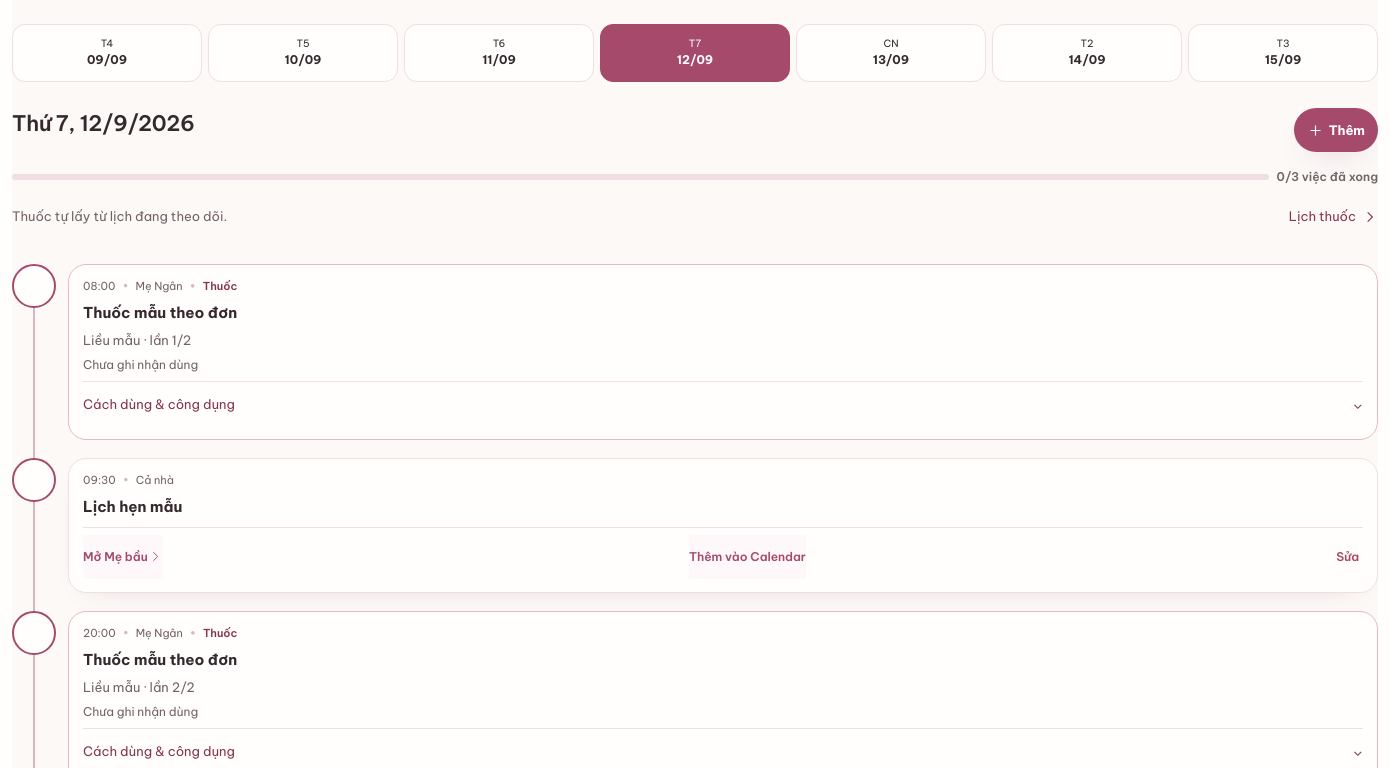
Test: automatically interleaves each dose with tasks, includes progress and writes only to the original intake
Expected: the text "0/3 việc đã xong" is shown, x1=1277 y1=168 x2=1378 y2=187
Click the button named "Đánh dấu đã dùng Thuốc mẫu theo đơn lần 1": (34, 286) x1=12 y1=264 x2=56 y2=308
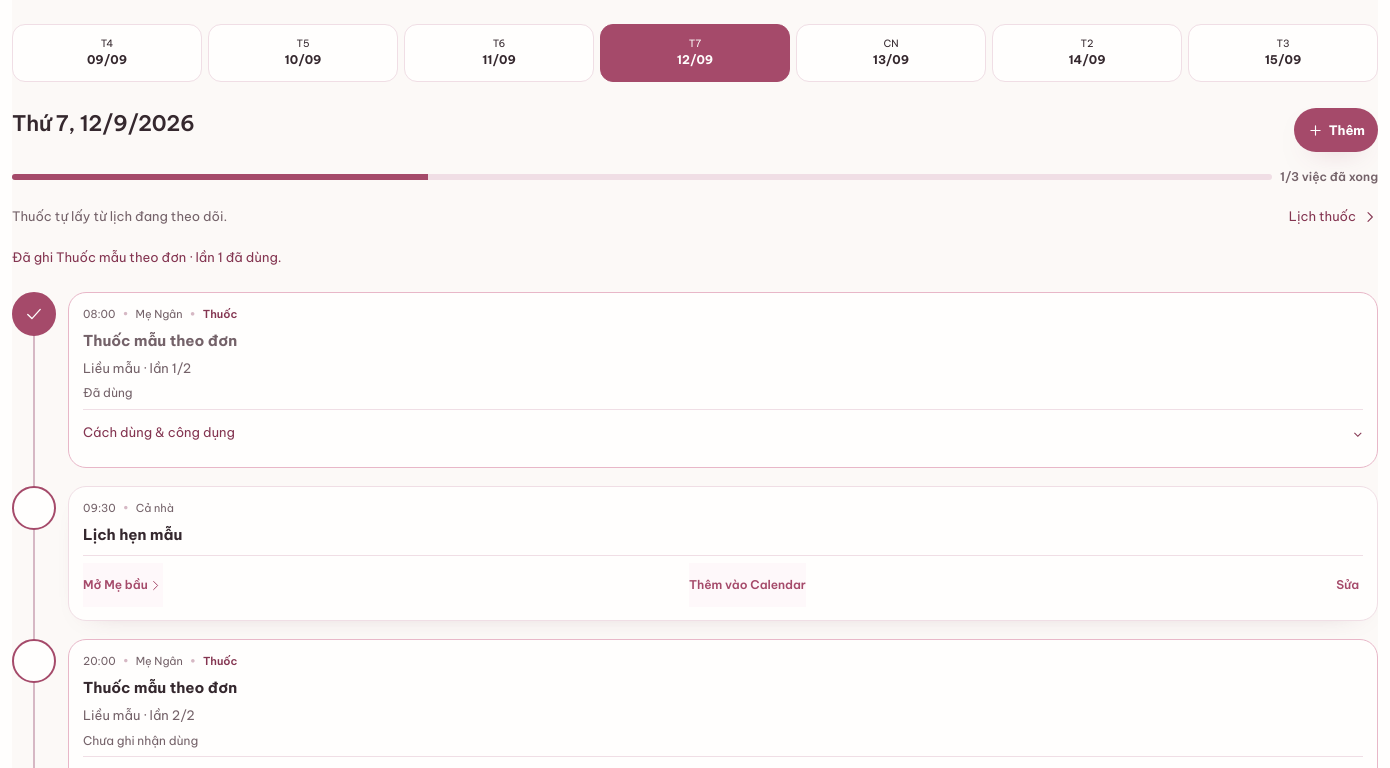
Expected: the text "1/3 việc đã xong" is shown, x1=1280 y1=168 x2=1378 y2=187
